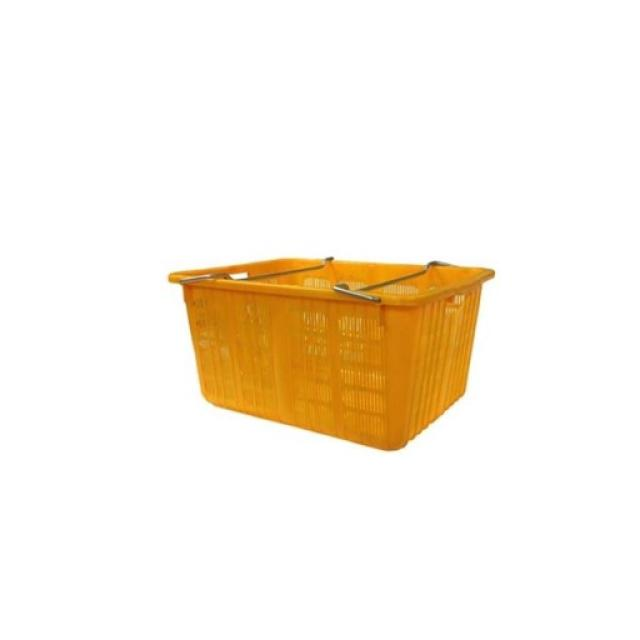basket: (165, 256, 495, 452)
